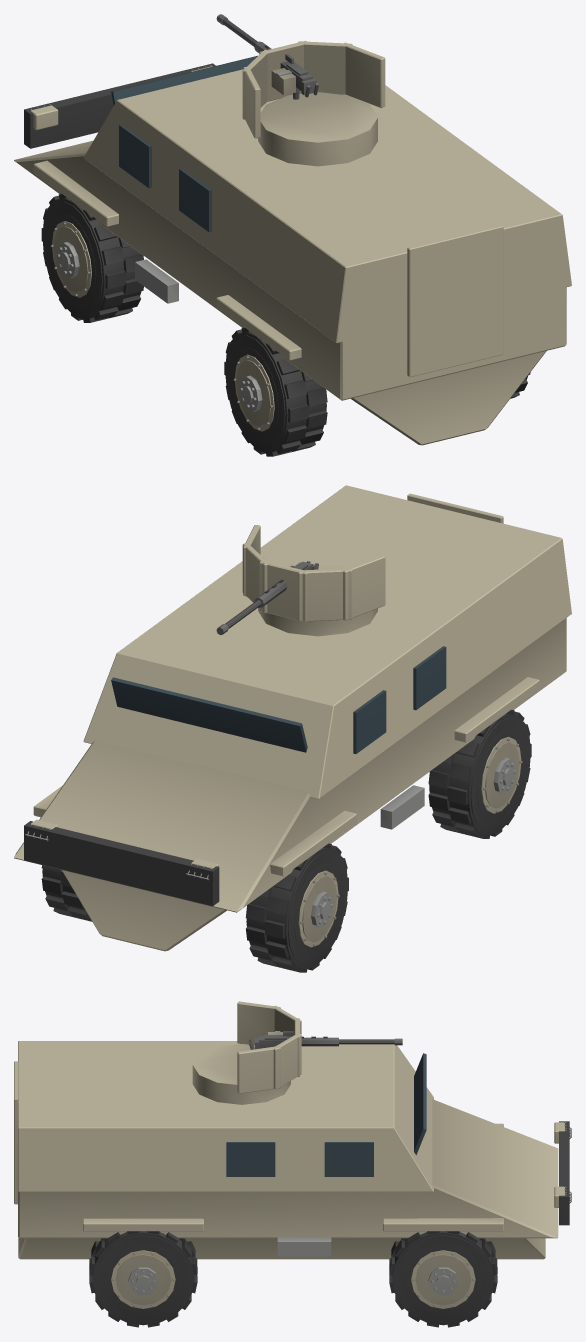
File: rus_mrap_vdv.glb
The picture shows the model from 3 angles, top to bottom: view 1: azimuth 30°, elevation 25°; view 2: azimuth 150°, elevation 25°; view 3: azimuth 270°, elevation 25°; orthographic projection. The views are drawn at different scales.
Visible parts, largest first — view 1: body, turret, wheel_2, wheel_0, barrel; view 2: body, turret, wheel_0, wheel_2, wheel_1, barrel; view 3: body, wheel_1, wheel_3, turret, barrel.
Part boxes in pixels (x1=…): body: x1=14, y1=55, x2=571, y2=445; turret: x1=242, y1=40, x2=385, y2=166; wheel_2: x1=224, y1=327, x2=327, y2=456; wheel_0: x1=41, y1=193, x2=143, y2=322; barrel: x1=216, y1=14, x2=318, y2=99; body: x1=14, y1=485, x2=571, y2=951; turret: x1=242, y1=525, x2=385, y2=636; wheel_0: x1=245, y1=843, x2=348, y2=972; wheel_2: x1=428, y1=709, x2=531, y2=838; wheel_1: x1=41, y1=865, x2=92, y2=921; barrel: x1=216, y1=561, x2=318, y2=634; body: x1=14, y1=1041, x2=571, y2=1259; wheel_1: x1=389, y1=1231, x2=497, y2=1327; wheel_3: x1=89, y1=1231, x2=197, y2=1327; turret: x1=192, y1=1001, x2=301, y2=1104; barrel: x1=249, y1=1031, x2=402, y2=1049.
Size of the model in its own units: 2.78 by 3.1 by 6.23.
